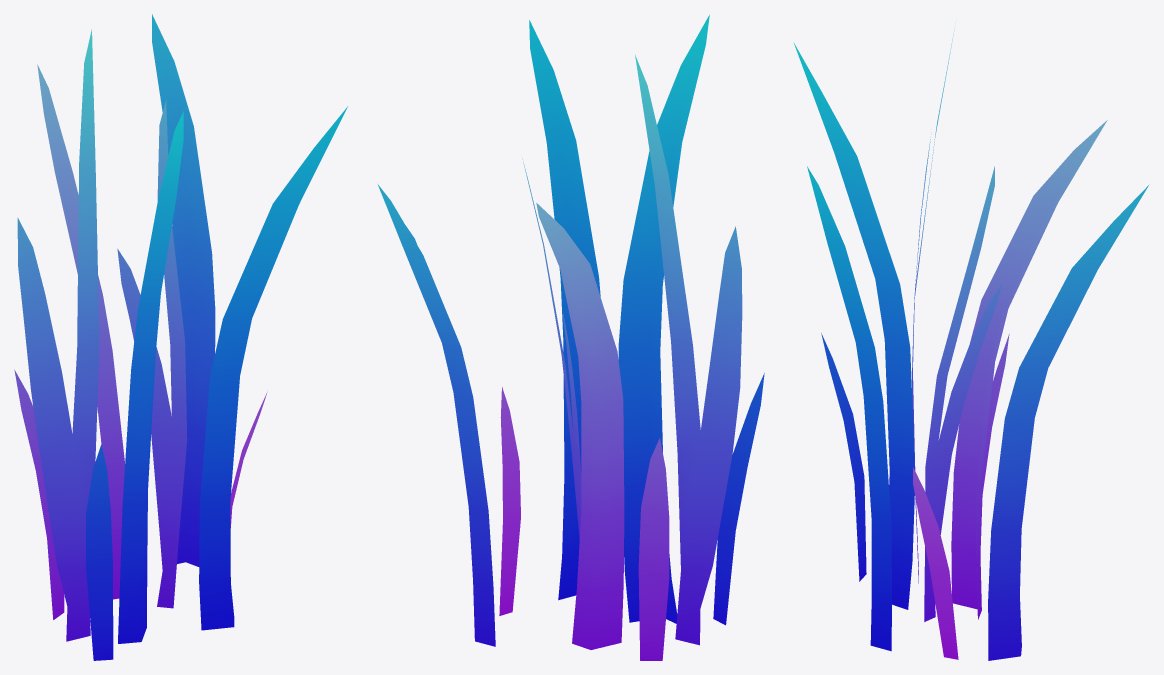
File: q_grass_short.glb
3 views of the same model, side by side, from view 1: azimuth 30°, elevation 25°; view 2: azimuth 150°, elevation 25°; view 3: azimuth 270°, elevation 25° (orthographic). The views are drawn at different scales.
Visible parts, largest first — view 1: Grass; view 2: Grass; view 3: Grass.
Boxes of the visible parts, bbox=[...] form: Grass: bbox=[14, 14, 347, 660]; Grass: bbox=[377, 14, 764, 660]; Grass: bbox=[793, 27, 1149, 660].
Bounding box in the file's own units: 0.1437 × 0.3 × 0.1658.
